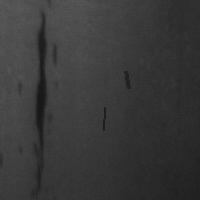inclusion: (28, 6, 58, 185), (26, 138, 46, 199), (123, 69, 130, 90), (101, 105, 106, 132)
